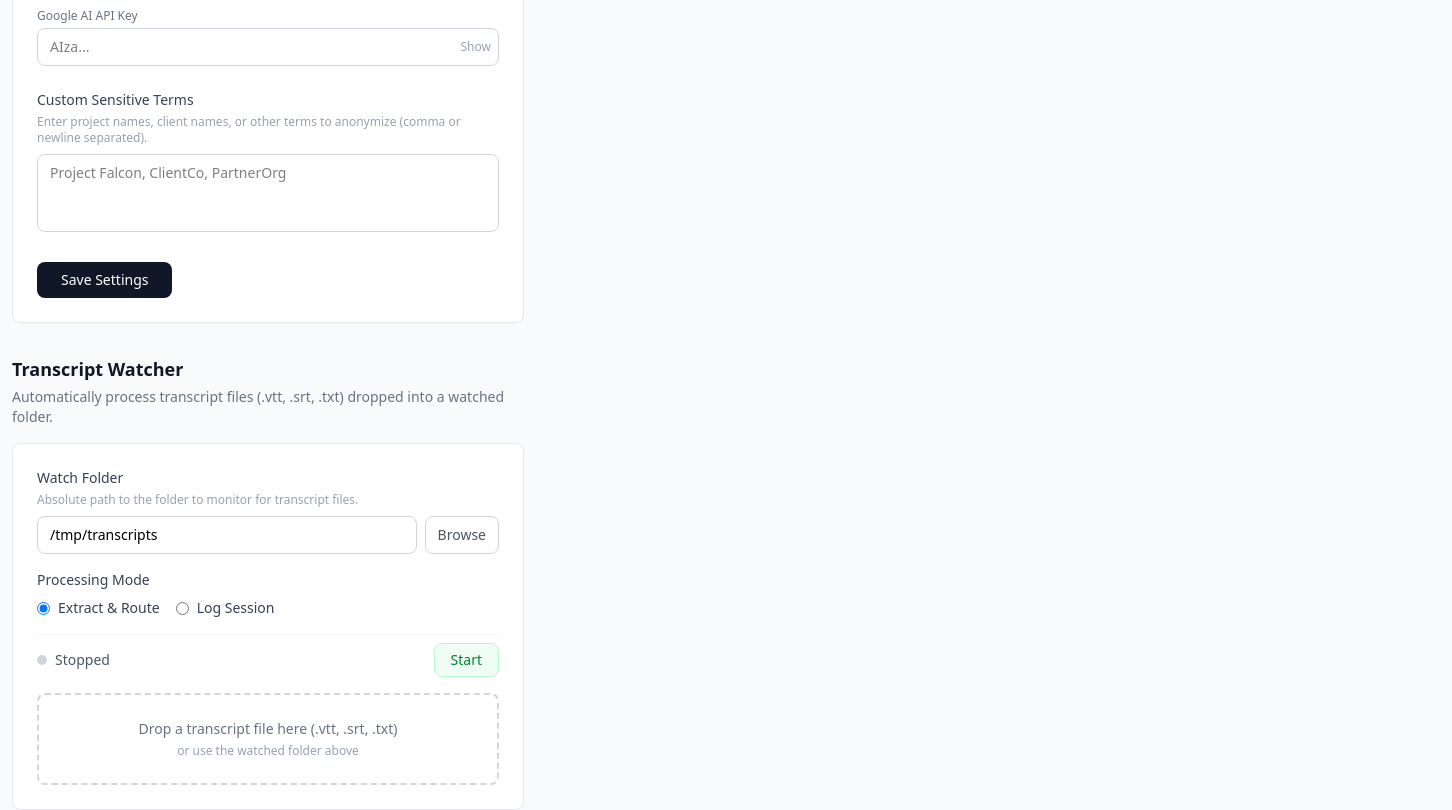
it: Settings — Transcript Watcher › starts watcher on Start click
(page scrolled)
Click the button "Start".
click(466, 660)  # box [434,643,499,677]
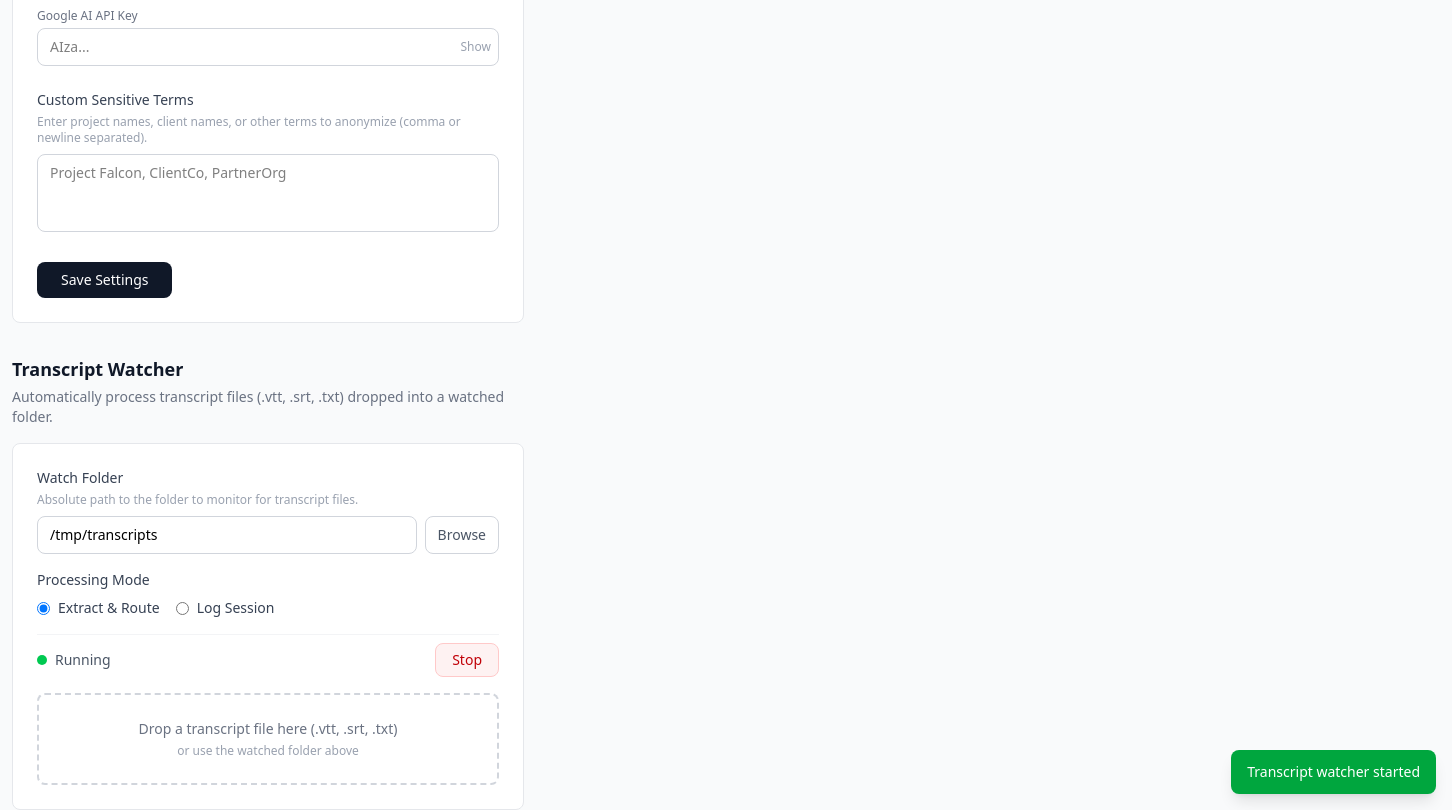
Now the text "Transcript watcher started" is shown, box [1231,750,1436,794]
